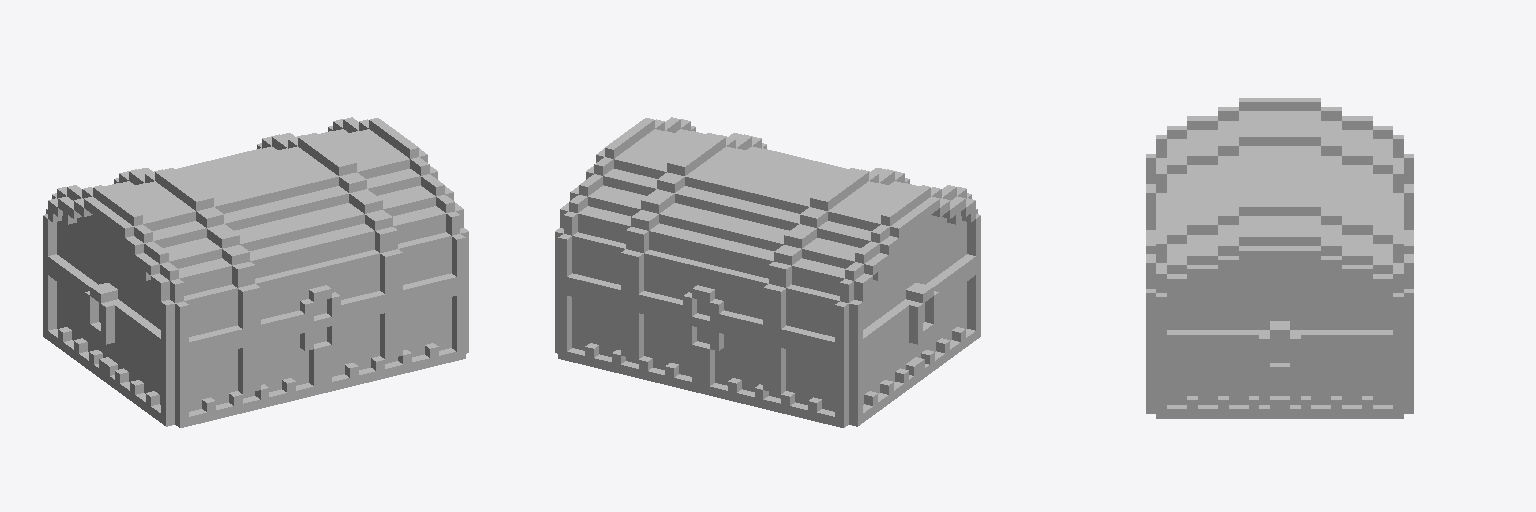
The model's file is Chest Closed.obj.
3 renders of one model, left to right at view 1: azimuth 30°, elevation 25°; view 2: azimuth 150°, elevation 25°; view 3: azimuth 270°, elevation 25°, orthographic.
Parts seen in each view (by area): view 1: object 1; view 2: object 1; view 3: object 1.
Boxes of the visible parts, x1,y1,x2,y2 form: object 1: [43, 117, 468, 427]; object 1: [555, 117, 980, 427]; object 1: [1146, 98, 1413, 418].
Size of the model in its own units: 3.6 by 1.9 by 2.6.